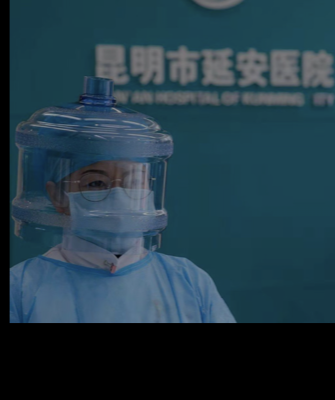with_mask: (65, 164, 154, 257)
